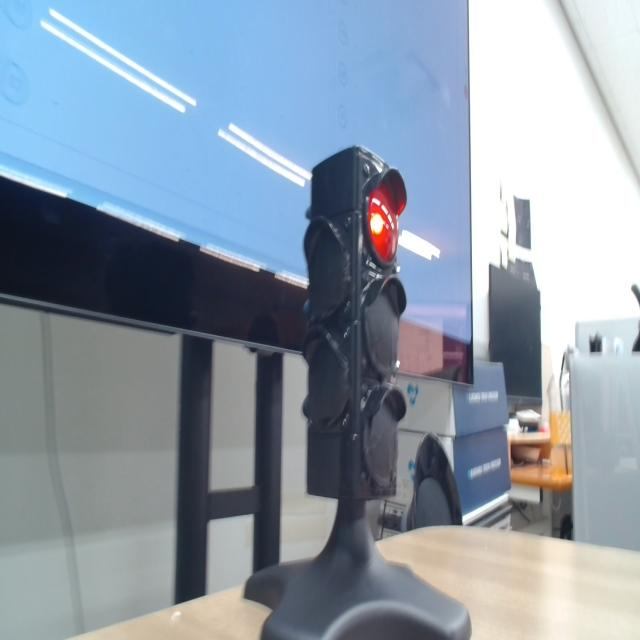red_light: (368, 183, 398, 264)
